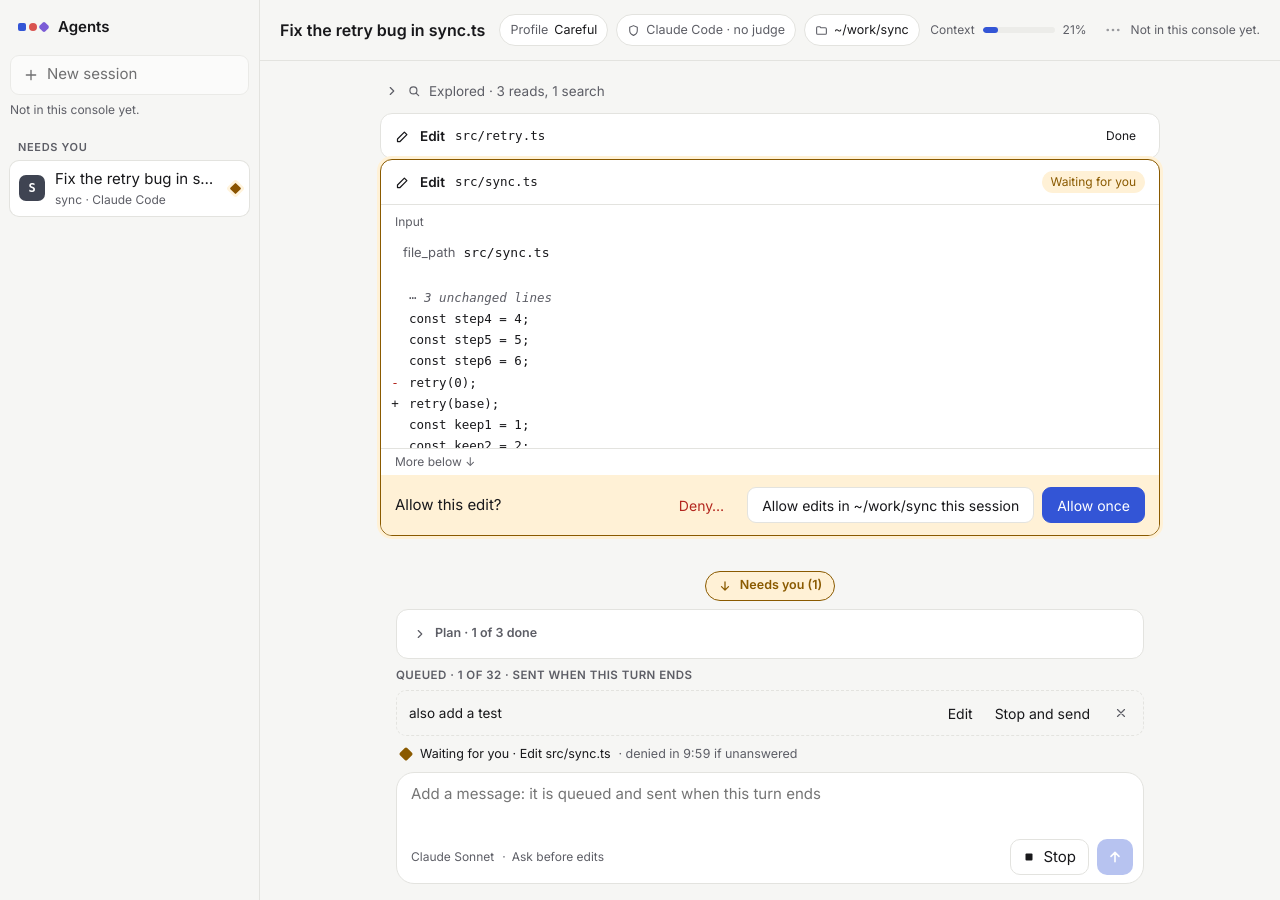
Test case: S30-2 › ac2_checked_mode_the_line_reads_the_cards_judge_words
(page scrolled)
Check: the button "Needs you (1)" is shown, box [705,571,835,601]
Check: the text "also add a test" is shown, box [409,705,502,721]
Click the button "Allow once": (1094, 505) [1042,487,1145,523]
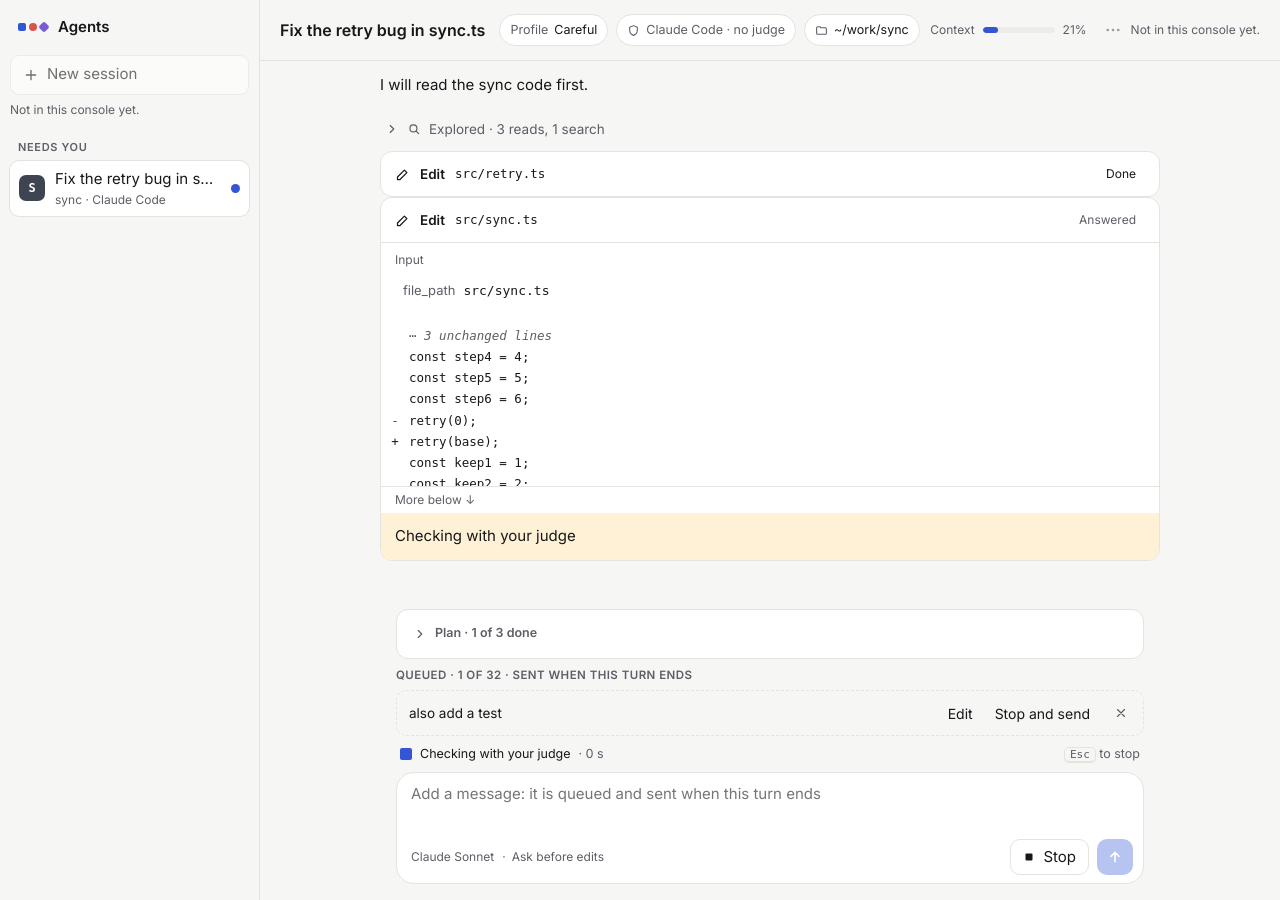
Check: the message "Checking with your judge" below "const keep3 = 3;" is shown, box [395,526,576,545]
